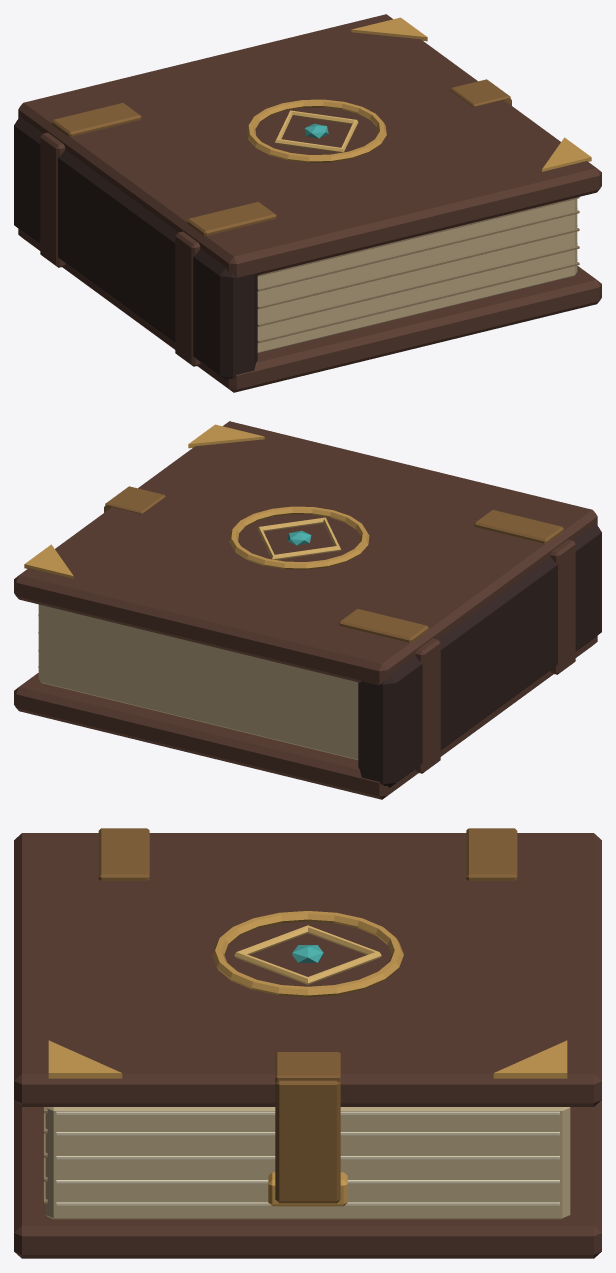
The model's file is spell_book.glb.
3 renders of one model, top to bottom at view 1: azimuth 30°, elevation 25°; view 2: azimuth 150°, elevation 25°; view 3: azimuth 270°, elevation 25°, orthographic. The views are drawn at different scales.
Parts seen in each view (by area): view 1: SM_Magic_Spellbook; view 2: SM_Magic_Spellbook; view 3: SM_Magic_Spellbook.
Part boxes in pixels (left/top/right/bottom): SM_Magic_Spellbook: left=14, top=14, right=601, bottom=392; SM_Magic_Spellbook: left=14, top=421, right=601, bottom=799; SM_Magic_Spellbook: left=14, top=828, right=601, bottom=1258.
Size of the model in its own units: 0.2965 by 0.106 by 0.288.
Materials: 3 (3 with a texture image).
